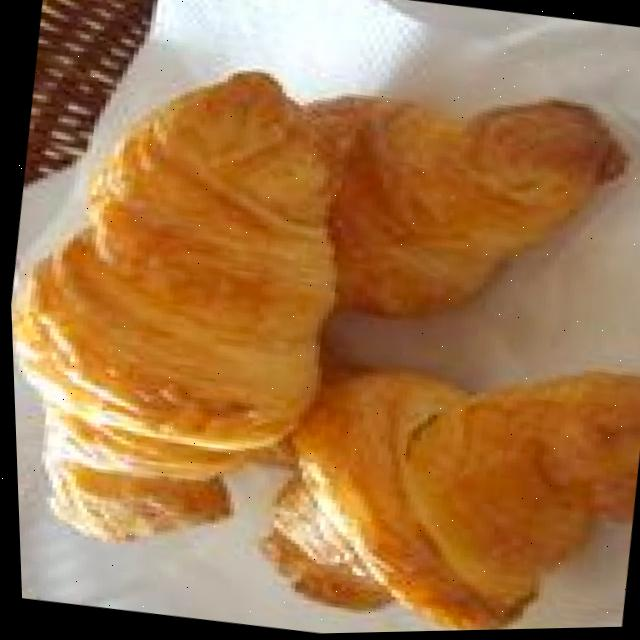面包点心: (1, 9, 640, 640)
